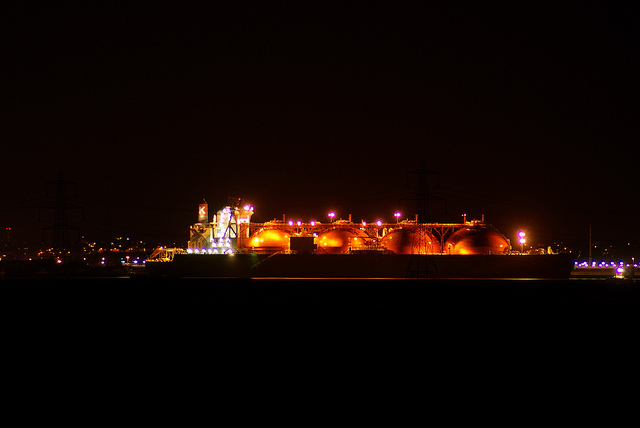LNG_ship: (181, 203, 571, 269)
